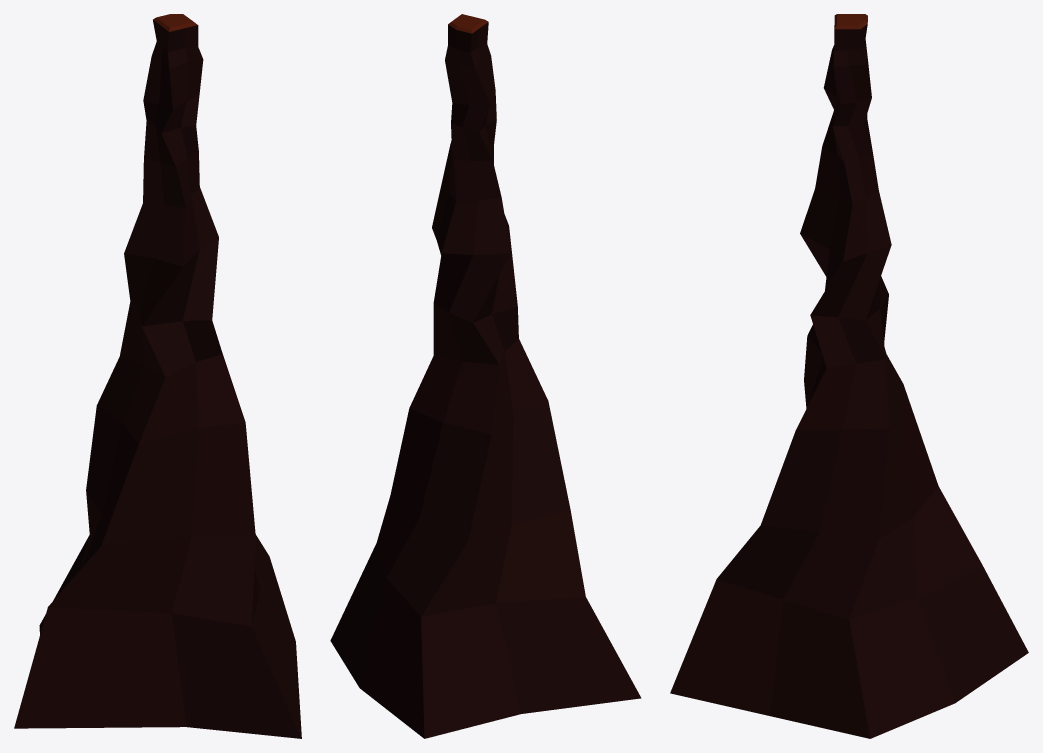
The model's file is tower_volcano.glb.
The picture shows the model from 3 angles, left to right: view 1: azimuth 30°, elevation 25°; view 2: azimuth 150°, elevation 25°; view 3: azimuth 270°, elevation 25°; orthographic projection. The views are drawn at different scales.
Visible parts, largest first — view 1: Cube; view 2: Cube; view 3: Cube.
Part boxes in pixels (left/top/right/bottom): Cube: left=14, top=14, right=301, bottom=738; Cube: left=330, top=14, right=641, bottom=738; Cube: left=670, top=14, right=1028, bottom=738.
Size of the model in its own units: 26.14 by 54.88 by 27.2.
